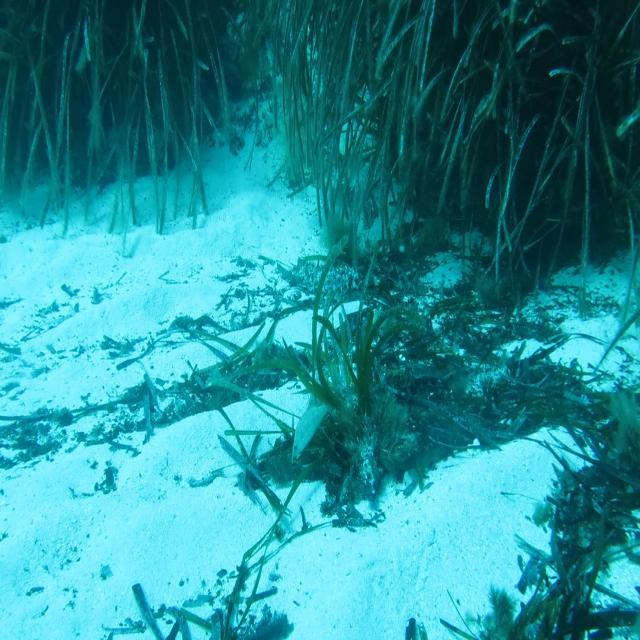SA: (286, 400, 334, 464)
vegetation: (0, 0, 639, 224), (457, 228, 626, 423), (288, 222, 490, 370), (523, 516, 640, 640)
